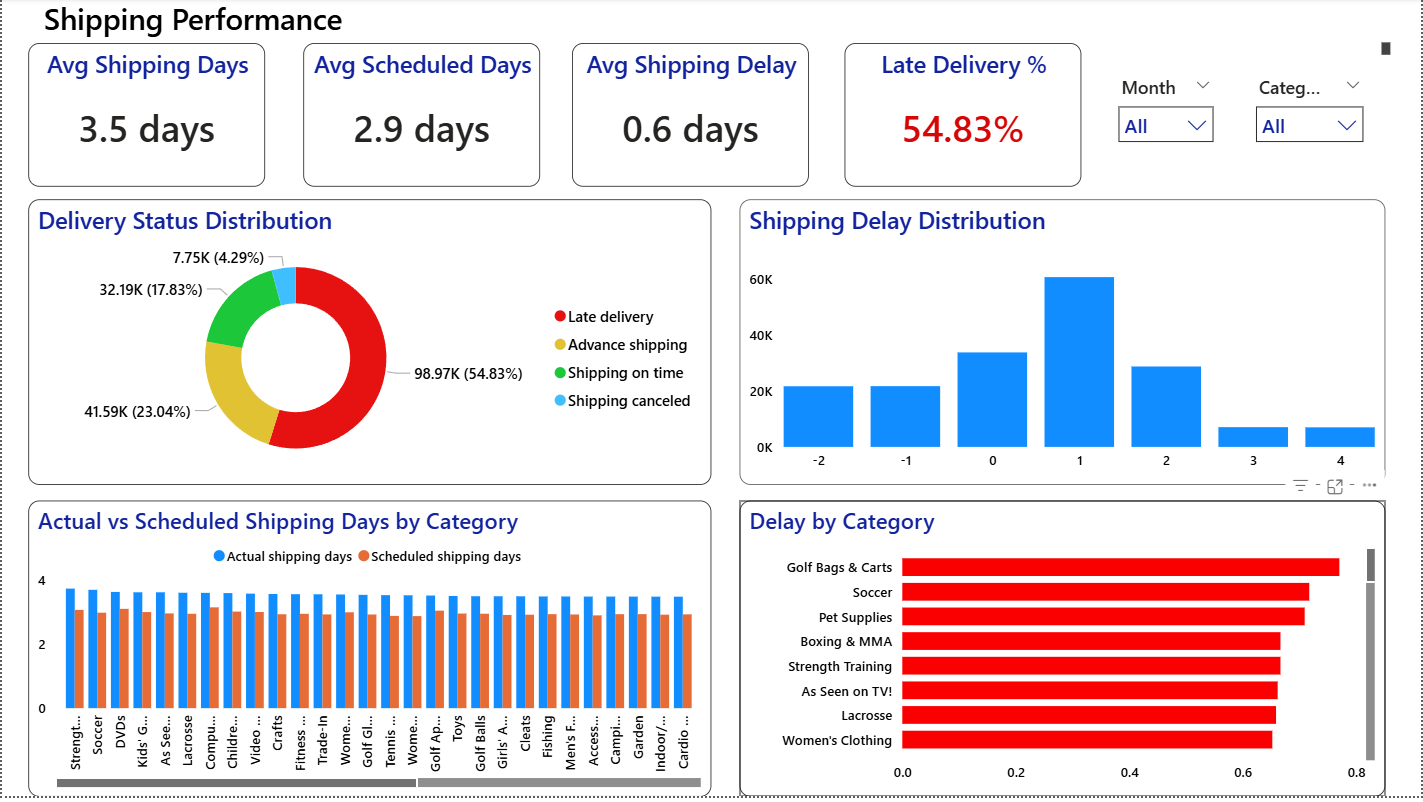

The page's visual inventory and layout, read from the dashboard file:
{"tool":"powerbi","page":{"name":" Shipping Performance","canvas":[1280,720],"ordinal":3},"visuals":[{"type":"columnChart","title":"Shipping Delay Distribution","fields":{"Category":["public orders.shipping_delay"],"Y":["CountNonNull(public orders.order_id)"]},"box":[665.5,181.6,582.2,257.5],"z":0},{"type":"donutChart","title":"Delivery Status Distribution","fields":{"Category":["public orders.delivery_status"],"Y":["CountNonNull(public orders.order_id)"]},"box":[23.6,181.6,615.8,257.5],"z":1000},{"type":"clusteredColumnChart","title":"Actual vs Scheduled Shipping Days by Category","fields":{"Category":["public orders.category"],"Y":["Avg(public orders.actual_shipping_days)","Avg(public orders.scheduled_shipping_days)"]},"box":[23.6,452.8,615.8,267.5],"z":2000},{"type":"barChart","title":" Delay by Category","fields":{"Y":["public orders.Avg Delay"],"Category":["public orders.category"]},"box":[665.5,452.8,582.2,267.5],"z":3000},{"type":"textbox","title":"Shipping Performance","box":[32.3,0,1224.1,56],"z":4000},{"type":"card","title":"Avg Shipping Delay","fields":{"Values":["public orders.Avg Delay KPI"]},"box":[513.8,41.1,214,129.4],"z":5000},{"type":"card","title":"Avg Scheduled Days","fields":{"Values":["public orders.Avg Scheduled Days KPI"]},"box":[271.2,41.1,214,129.4],"z":6000},{"type":"card","title":"Avg Shipping Days","fields":{"Values":["public orders.Avg Shipping Days KPI"]},"box":[23.6,41.1,214,129.4],"z":7000},{"type":"card","title":"Late Delivery %","fields":{"Values":["public orders.Late Delivery %"]},"box":[760.1,41.1,214,129.4],"z":8000},{"type":"slicer","fields":{"Values":["public orders.month"]},"box":[996.4,64.7,105.7,82.1],"z":9000},{"type":"slicer","fields":{"Values":["public orders.category"]},"box":[1120.8,64.7,116.9,82.1],"z":10000}]}

Visuals, with their boxes in screenshot pixels (x1, y1, x2, y2), scaled from the page's 1280x720 canvas onto the 1423x802 screenshot:
"Shipping Delay Distribution" columnChart: locate(740, 202, 1387, 489)
"Delivery Status Distribution" donutChart: locate(26, 202, 711, 489)
"Actual vs Scheduled Shipping Days by Category" clusteredColumnChart: locate(26, 504, 711, 801)
" Delay by Category" barChart: locate(740, 504, 1387, 801)
"Shipping Performance" textbox: locate(36, 0, 1397, 62)
"Avg Shipping Delay" card: locate(571, 46, 809, 190)
"Avg Scheduled Days" card: locate(301, 46, 539, 190)
"Avg Shipping Days" card: locate(26, 46, 264, 190)
"Late Delivery %" card: locate(845, 46, 1083, 190)
slicer - public orders.month: locate(1108, 72, 1225, 164)
slicer - public orders.category: locate(1246, 72, 1376, 164)
